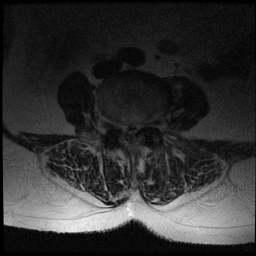CCS_severe_stenosis: (128, 125, 134, 148)
LFS_stenosis: (141, 117, 147, 134)
LLS_severe_stenosis: (134, 124, 140, 140)
RFS_stenosis: (116, 117, 123, 135)
RLS_severe_stenosis: (123, 125, 128, 143)
